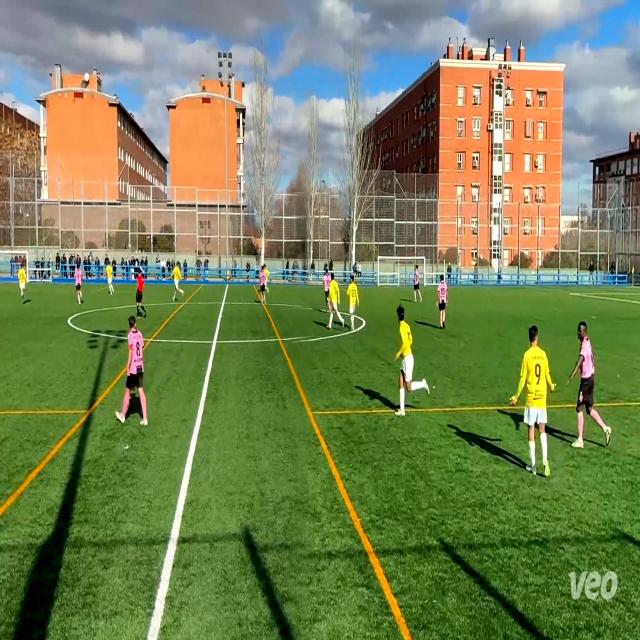bigarea_top_inner: (567, 289, 574, 300)
corner: (630, 283, 635, 290)
halfcircle_bottom: (208, 335, 221, 349)
halfcircle_top: (220, 297, 227, 309)
midline_top_intersection: (225, 282, 230, 288)
